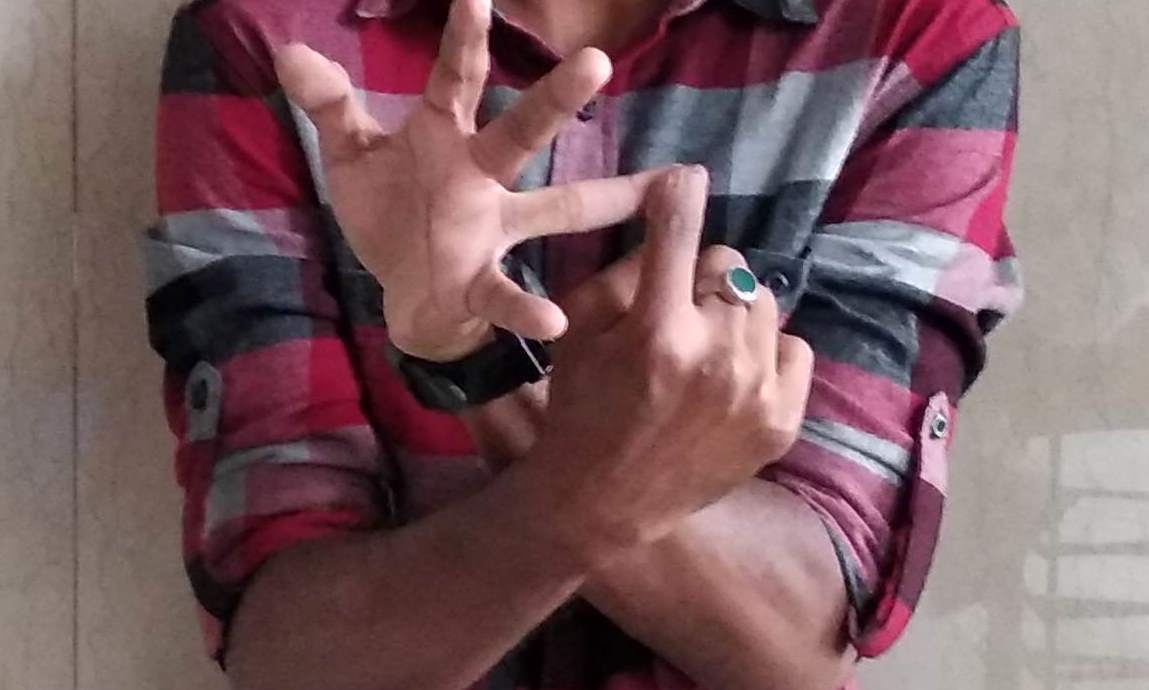e: (395, 10, 819, 382)
